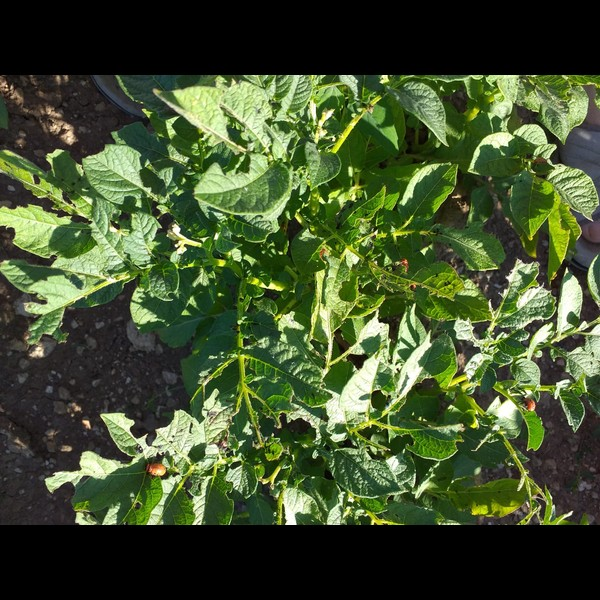hrosc: (145, 460, 169, 479), (525, 396, 535, 414)
